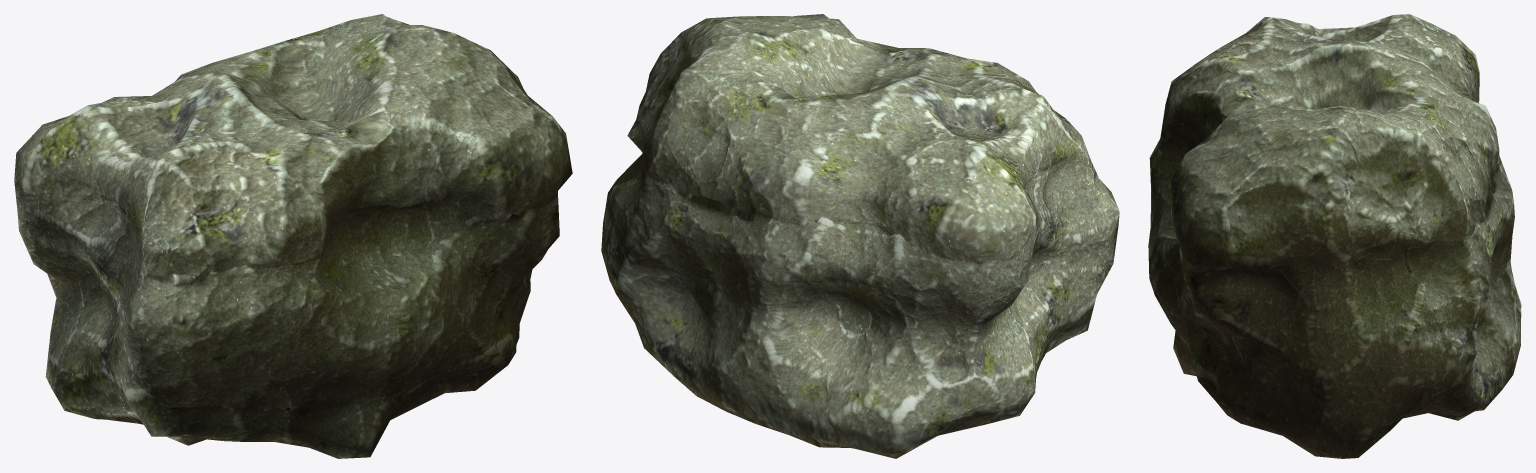
The model's file is rock_5.fbx.
3 renders of one model, left to right at view 1: azimuth 30°, elevation 25°; view 2: azimuth 150°, elevation 25°; view 3: azimuth 270°, elevation 25°, orthographic. The views are drawn at different scales.
Visible parts, largest first — view 1: rock_5; view 2: rock_5; view 3: rock_5.
Boxes of the visible parts, left/top/right/bottom form: rock_5: left=14, top=14, right=572, bottom=458; rock_5: left=601, top=14, right=1119, bottom=458; rock_5: left=1148, top=14, right=1521, bottom=458.
Bounding box in the file's own units: 534 × 382 × 390.
